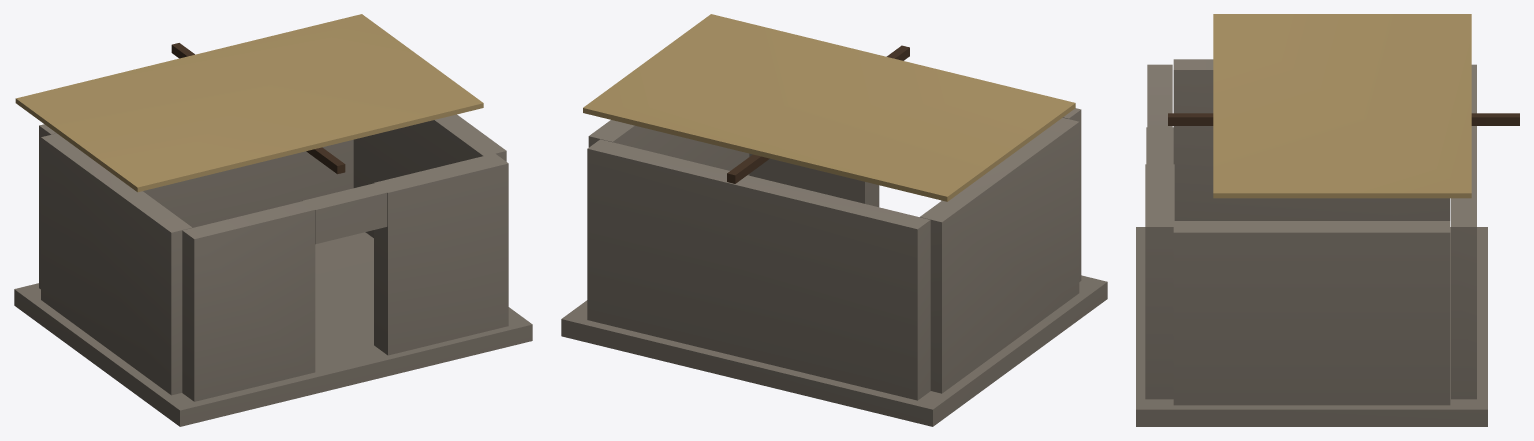
Rendered from caral_house_late_lod1.glb.
3 renders of one model, left to right at view 1: azimuth 30°, elevation 25°; view 2: azimuth 150°, elevation 25°; view 3: azimuth 270°, elevation 25°, orthographic. The views are drawn at different scales.
Visible parts, largest first — view 1: GEO-Arch_house_late_LOD1; view 2: GEO-Arch_house_late_LOD1; view 3: GEO-Arch_house_late_LOD1.
Part boxes in pixels (bbox=[...]): GEO-Arch_house_late_LOD1: bbox=[14, 14, 532, 426]; GEO-Arch_house_late_LOD1: bbox=[561, 14, 1107, 426]; GEO-Arch_house_late_LOD1: bbox=[1136, 14, 1519, 426].
Size of the model in its own units: 5.49 by 3.14 by 4.8.
